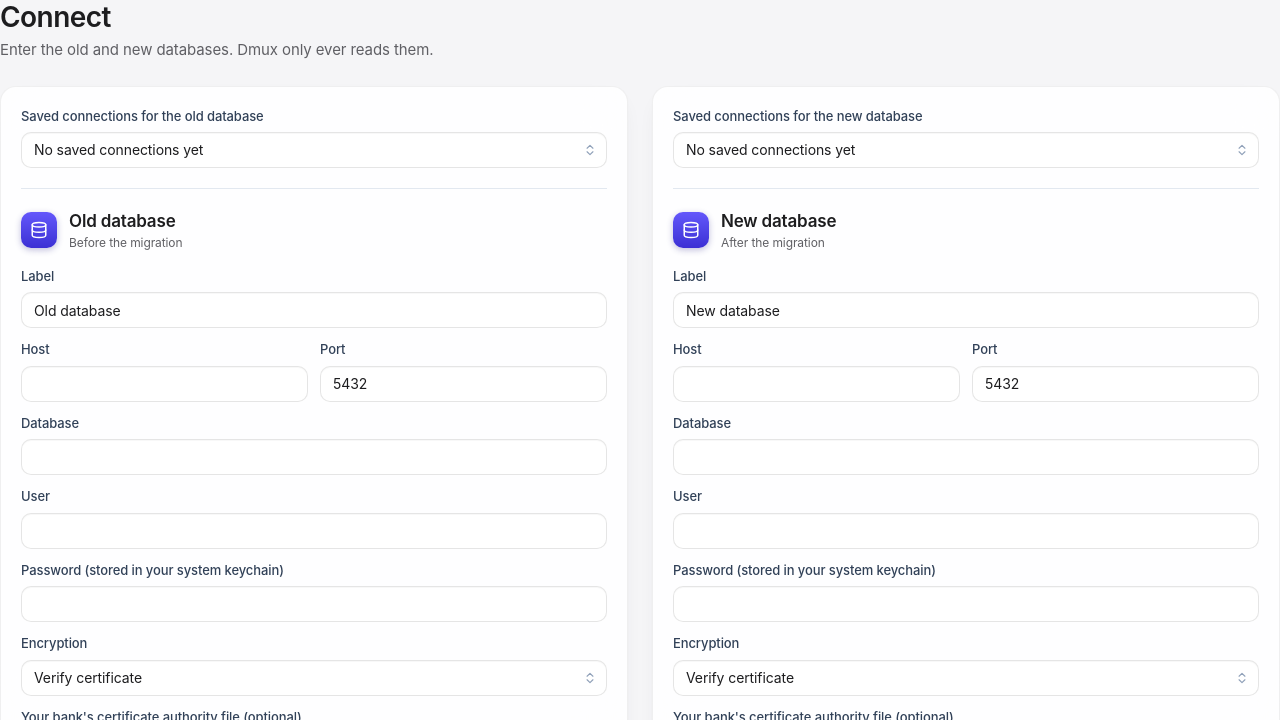
Test: ConnectScreen › clears the password after a failed save
Type "hunter2" into the password field with test id "Old database-password".
click(314, 604); type("hunter2")  # box [21, 586, 607, 622]
(page scrolled)
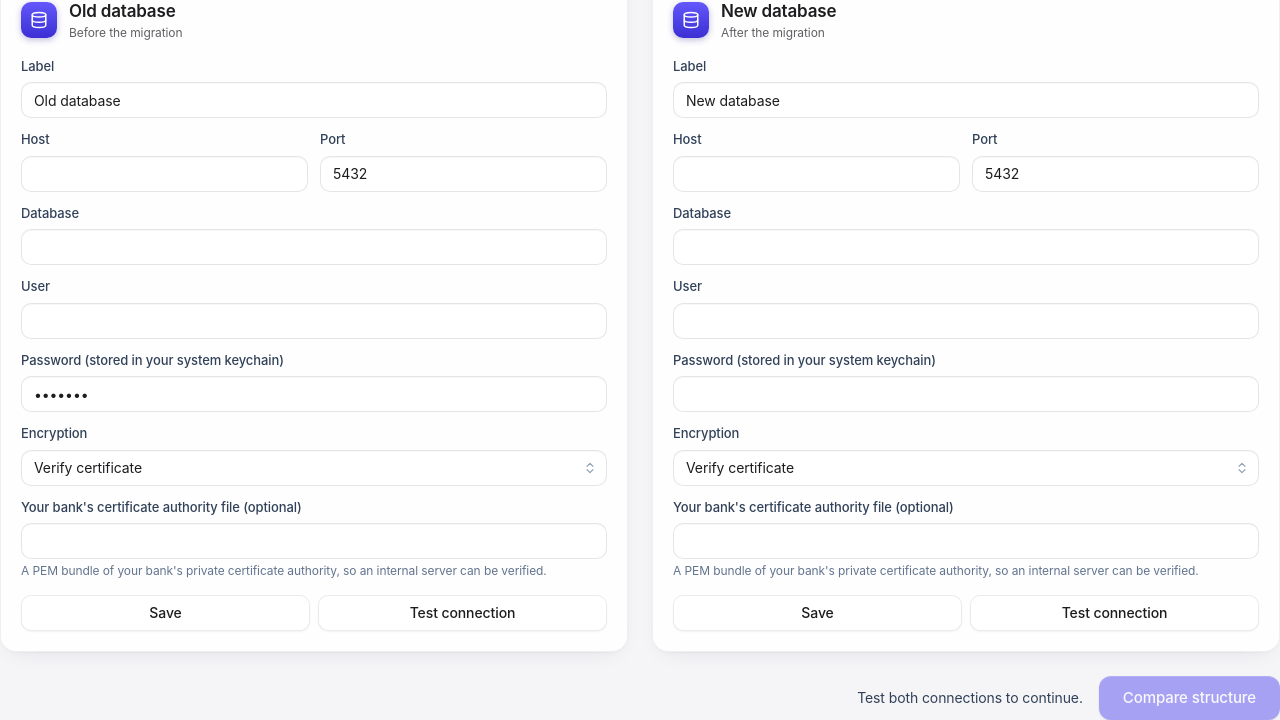
Click the 1st button "Save".
click(166, 613)  # box [21, 595, 310, 631]
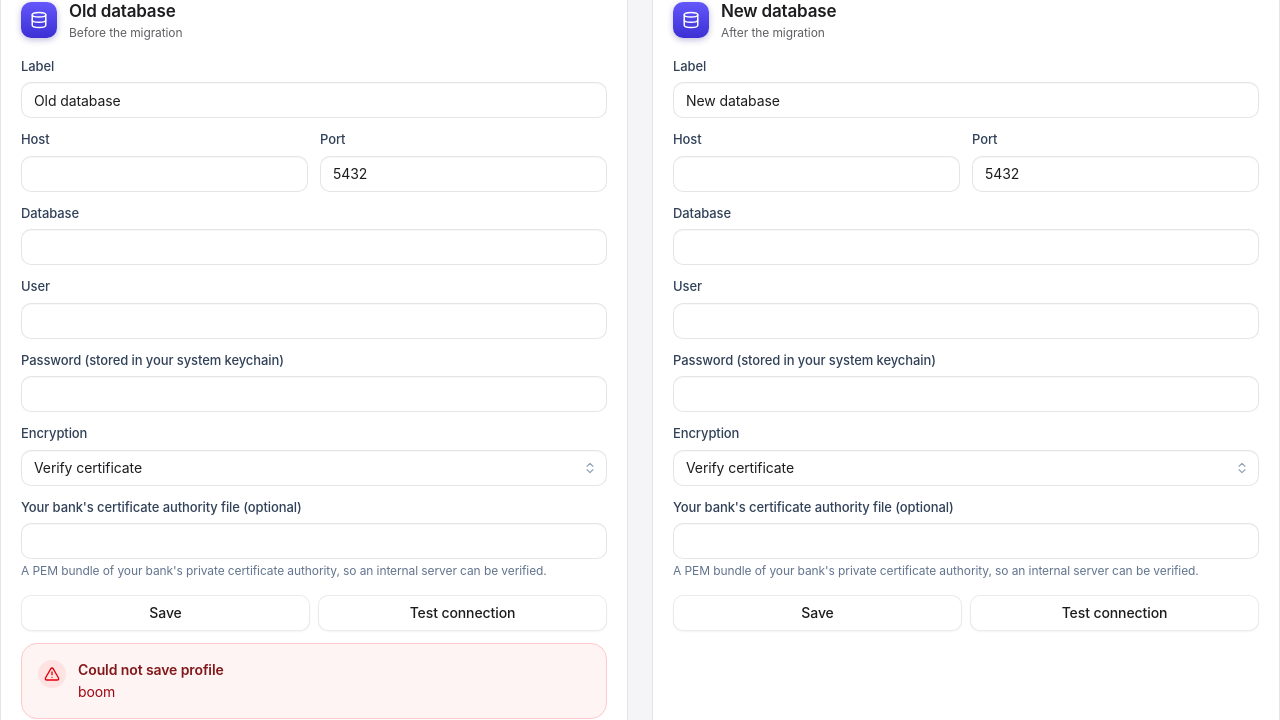
Check: the text "boom" is shown, box [78, 683, 115, 700]
Check: the password field with test id "Old database-password" is empty, box [21, 376, 607, 412]
